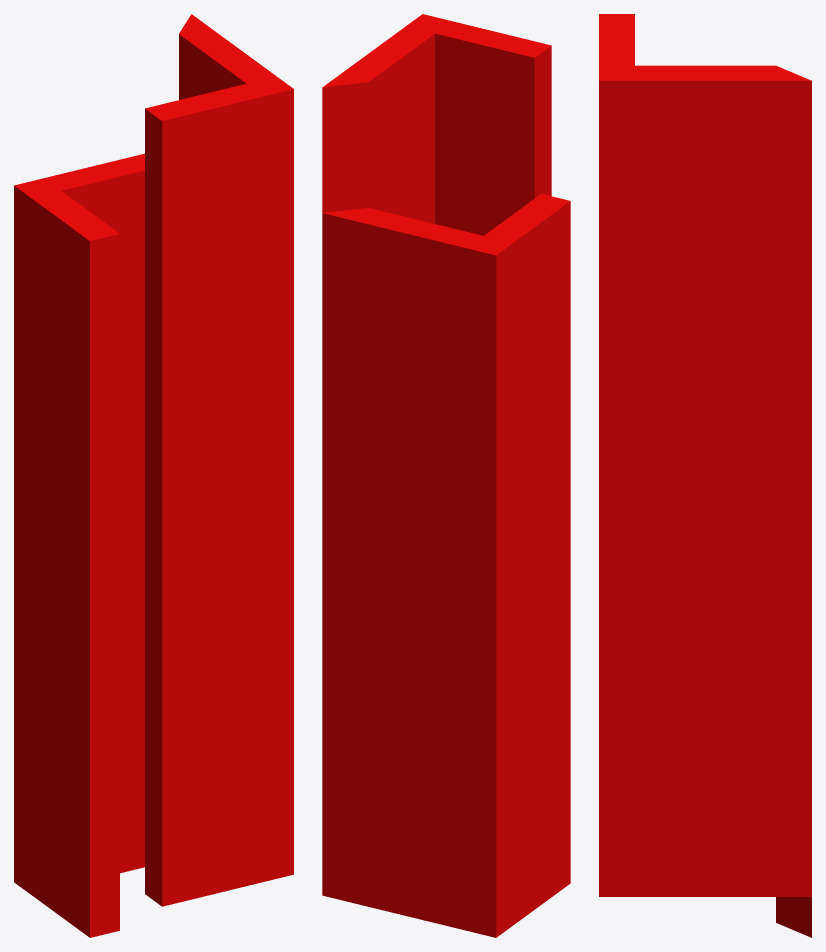
Rendered from 07_datacore.glb.
3 renders of one model, left to right at view 1: azimuth 30°, elevation 25°; view 2: azimuth 150°, elevation 25°; view 3: azimuth 270°, elevation 25°, orthographic. The views are drawn at different scales.
Bounding box in the file's own units: 0.0508 × 0.2256 × 0.0508.
